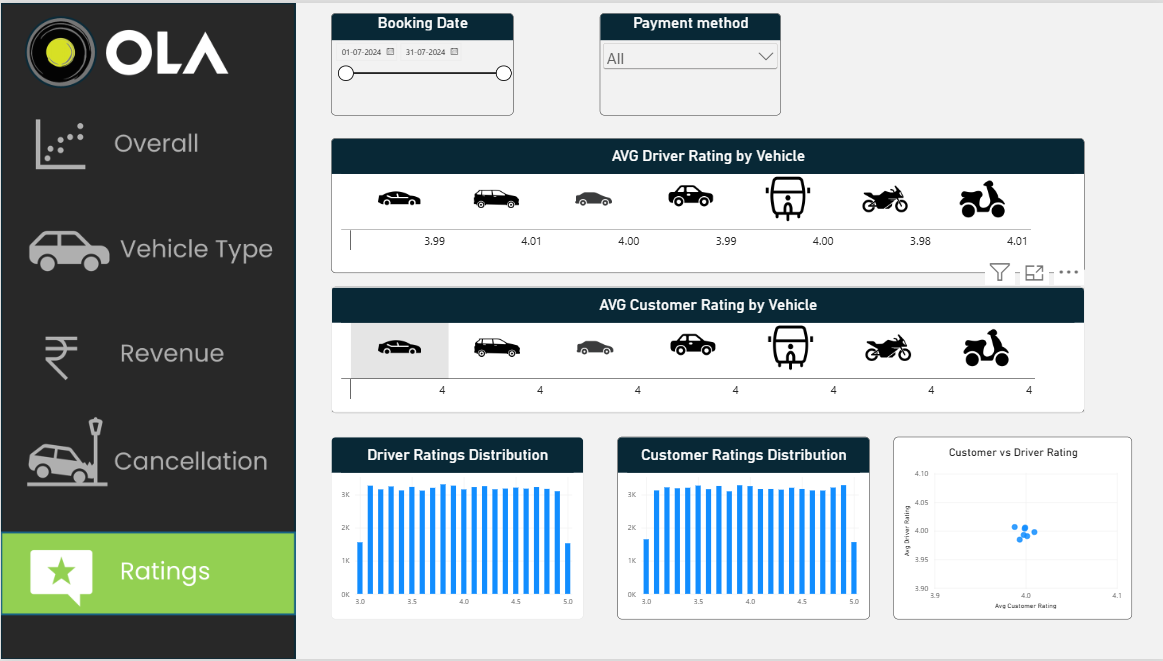

The dashboard page shown, as its layout file describes it:
{"tool":"powerbi","page":{"name":"Ratings","canvas":[1920,1080],"ordinal":4},"visuals":[{"type":"slicer","title":"Booking Date","fields":{"Values":["ola_rides.booking_datetime"]},"box":[543.4,16.5,301,169],"z":0},{"type":"slicer","title":"Payment method","fields":{"Values":["ola_rides.payment_method"]},"box":[985.9,16.5,298.5,168.8],"z":1000},{"type":"pivotTable","title":"AVG Driver Rating by Vehicle","fields":{"Columns":["vehicle_icons.icon_url"],"Values":["ola_rides.Avg Driver Rating"]},"box":[543.4,222.3,1241.2,222.3],"z":2000},{"type":"pivotTable","title":"AVG Customer Rating by Vehicle","fields":{"Columns":["vehicle_icons.icon_url"],"Values":["ola_rides.Avg Customer Rating"]},"box":[543.4,467.2,1241.2,207.9],"z":3000},{"type":"clusteredColumnChart","title":"Driver Ratings Distribution","fields":{"Category":["ola_rides.driver_ratings"],"Y":["ola_rides.Successful Rides"]},"box":[543.4,714.2,415.8,300.5],"z":4000},{"type":"clusteredColumnChart","title":"Customer Ratings Distribution","fields":{"Category":["ola_rides.customer_rating"],"Y":["ola_rides.Successful Rides"]},"box":[1014.8,714.2,415.8,300.5],"z":5000},{"type":"scatterChart","title":"Customer vs Driver Rating ","fields":{"Category":["vehicle_icons.vehicle_type"],"X":["ola_rides.Avg Customer Rating"],"Y":["ola_rides.Avg Driver Rating"]},"box":[1469.6,714.2,393.1,300.5],"z":6000},{"type":"actionButton","box":[0,675.1,483.7,189.4],"z":7000},{"type":"actionButton","box":[0,500.2,483.7,175],"z":8000},{"type":"actionButton","box":[0,312.9,483.7,154.4],"z":9000},{"type":"actionButton","box":[0,146.1,483.7,158.5],"z":10000}]}

Visuals, with their boxes in screenshot pixels (x1, y1, x2, y2), scaled from the page's 1920x1080 canvas onto the 1163x661 screenshot:
"Booking Date" slicer: (x1=329, y1=10, x2=511, y2=114)
"Payment method" slicer: (x1=597, y1=10, x2=778, y2=113)
"AVG Driver Rating by Vehicle" pivotTable: (x1=329, y1=136, x2=1081, y2=272)
"AVG Customer Rating by Vehicle" pivotTable: (x1=329, y1=286, x2=1081, y2=413)
"Driver Ratings Distribution" clusteredColumnChart: (x1=329, y1=437, x2=581, y2=621)
"Customer Ratings Distribution" clusteredColumnChart: (x1=615, y1=437, x2=867, y2=621)
"Customer vs Driver Rating " scatterChart: (x1=890, y1=437, x2=1128, y2=621)
actionButton: (x1=0, y1=413, x2=293, y2=529)
actionButton: (x1=0, y1=306, x2=293, y2=413)
actionButton: (x1=0, y1=192, x2=293, y2=286)
actionButton: (x1=0, y1=89, x2=293, y2=186)
